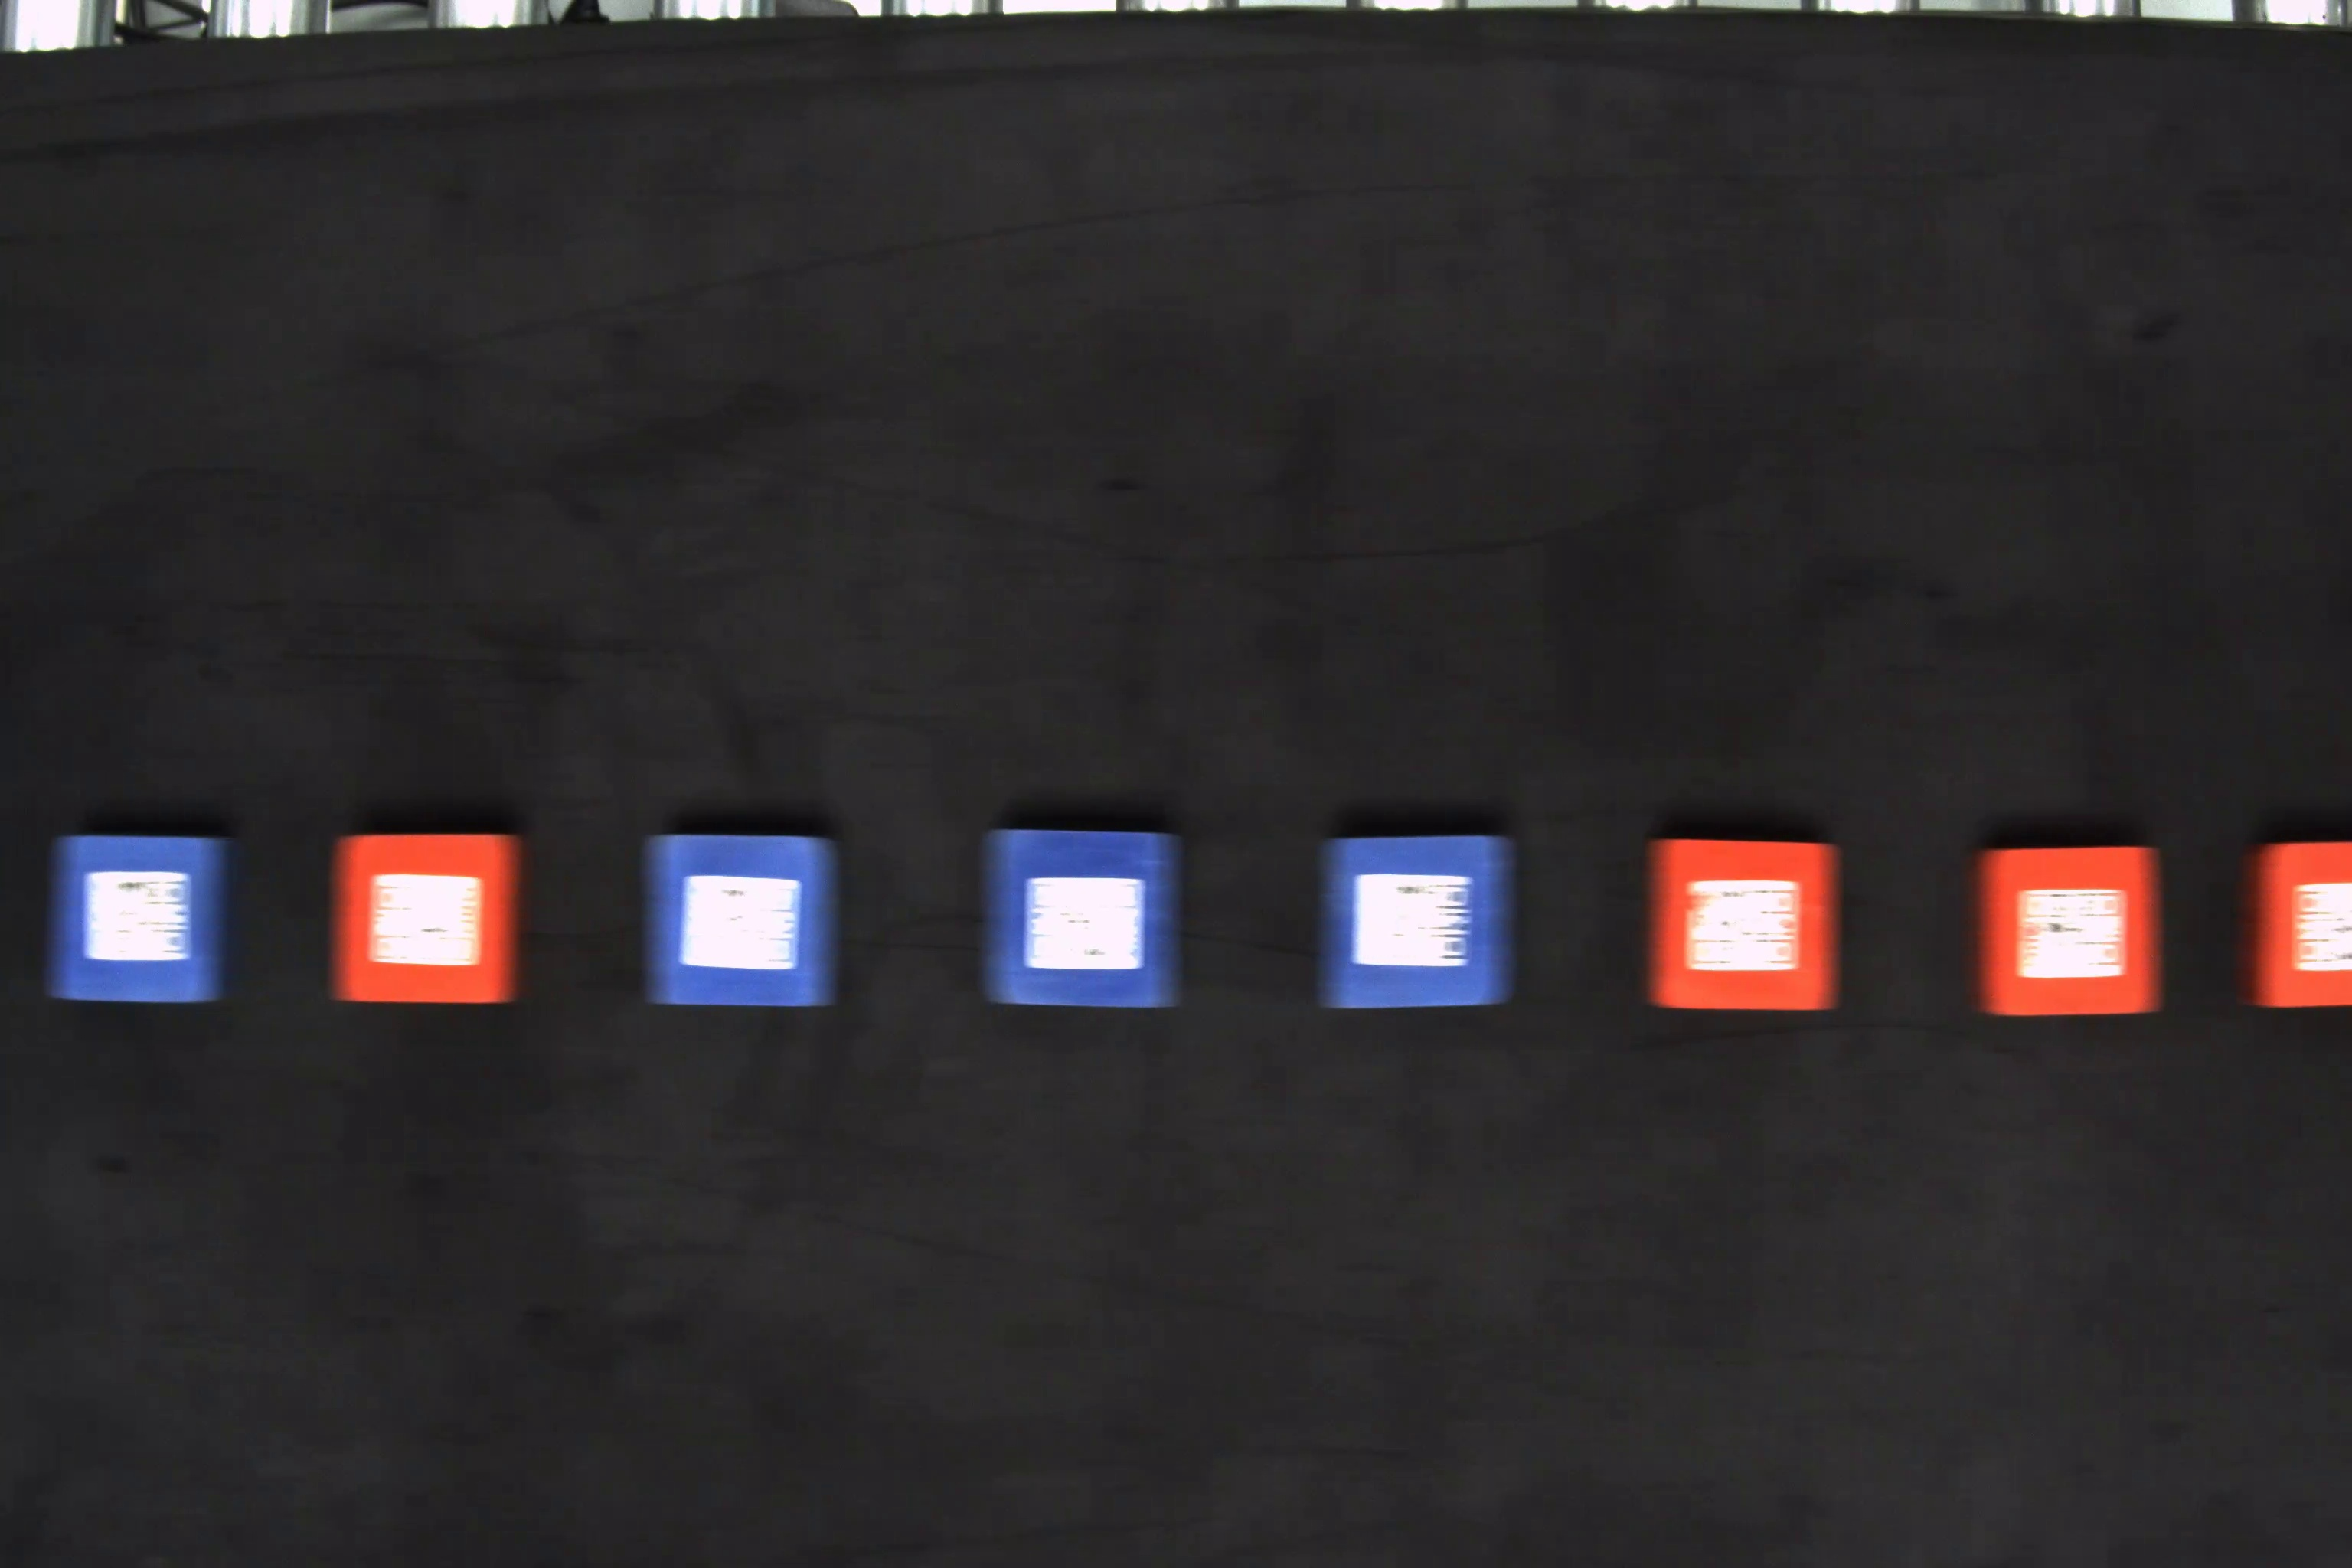wood: (980, 826, 1185, 1008), (1311, 835, 1515, 1011), (640, 833, 842, 1006), (1640, 836, 1841, 1008), (329, 836, 532, 1004), (51, 831, 234, 1008), (1979, 843, 2170, 1013), (2242, 836, 2352, 1008)
